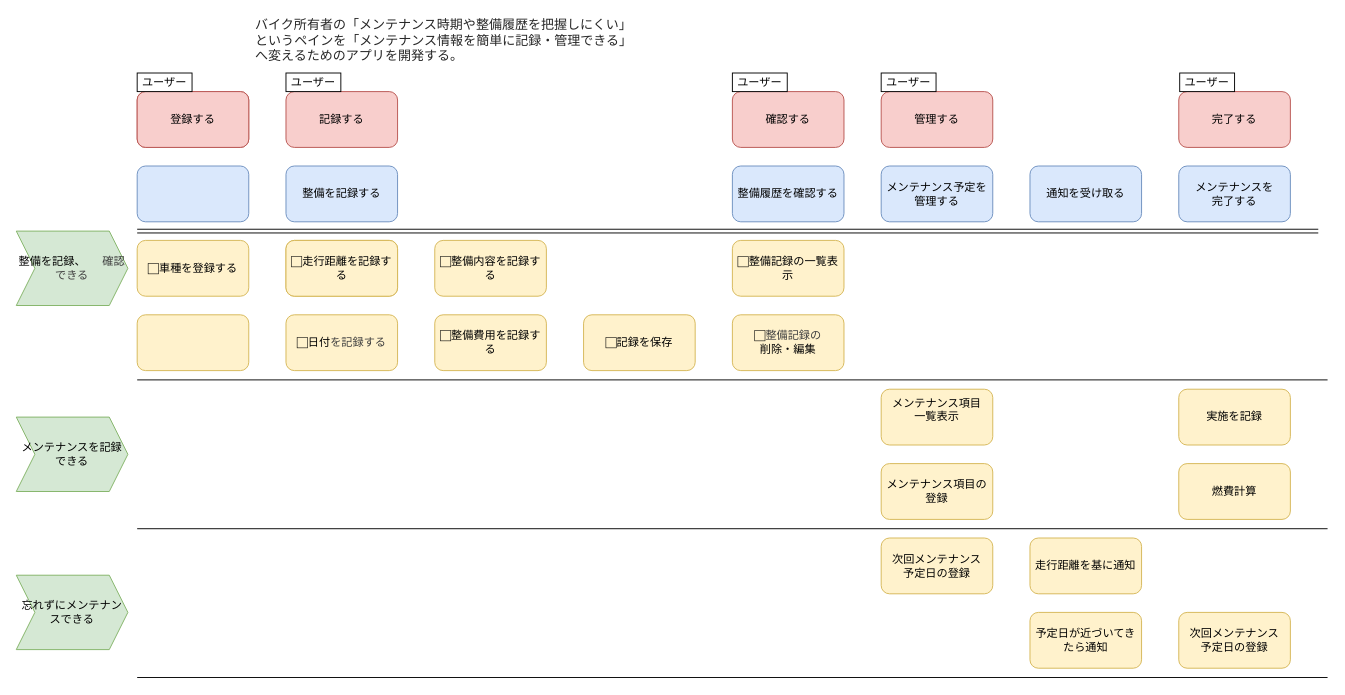
The diagram is 1345 pixels wide and 695 high, and some of its shapes have lost their labels. The shapes that lost their labels are listed below. From the top down, each one's centre as x and y in pixels, then its label:
At point 192,193: "バイクを登録する".
At point 192,342: "⬜︎走行距離を登録する".
